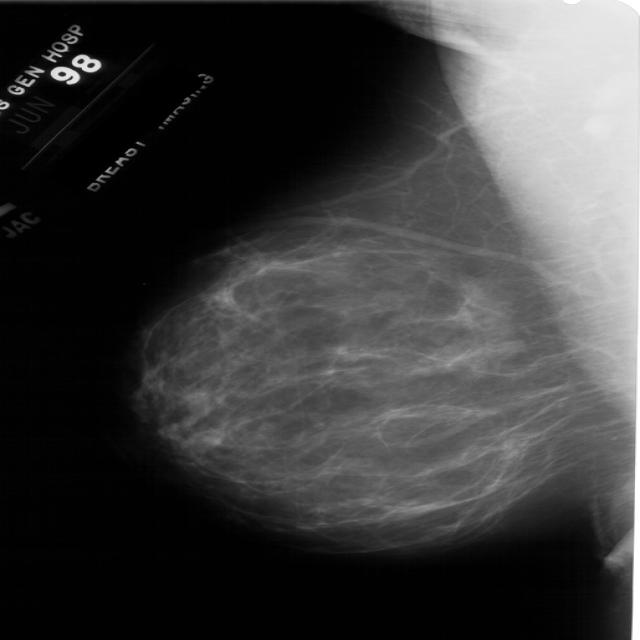tumour: (184, 387, 211, 417)
